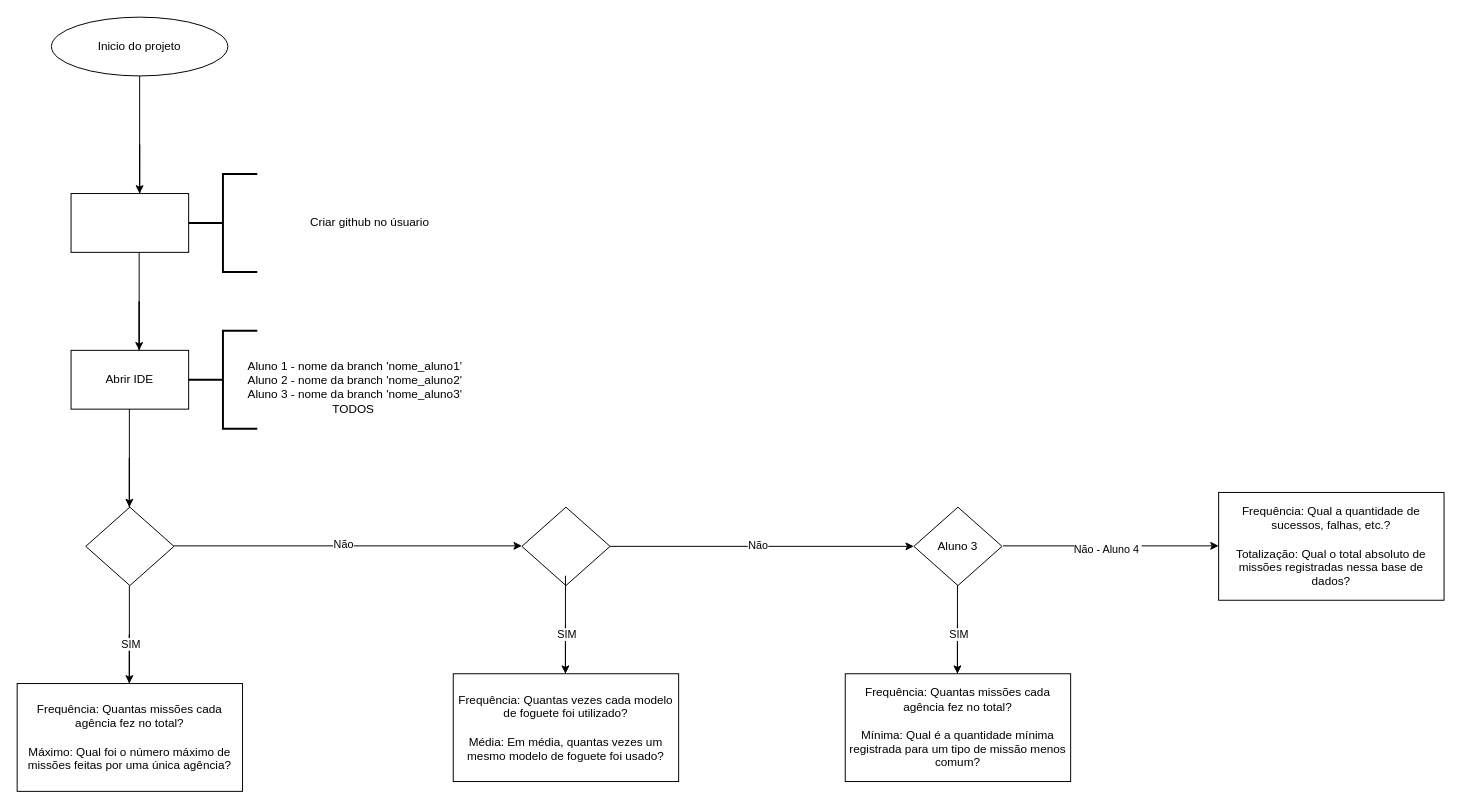
Image size: 1461x809. Some labels were removed from this diagram. Each missing label, with the centre of its shape:
"Aluno 1" belongs at (x=129, y=546).
"Aluno 2" belongs at (x=565, y=546).
"Criar github para o time" belongs at (x=129, y=222).
